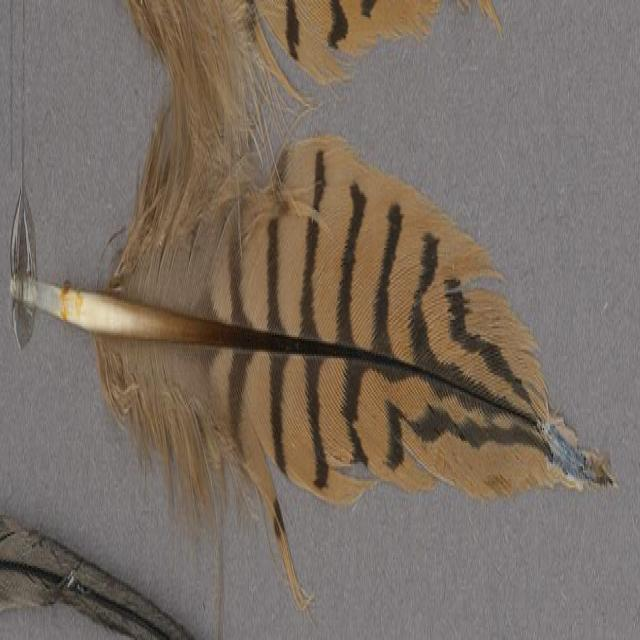feather: (13, 94, 618, 633)
